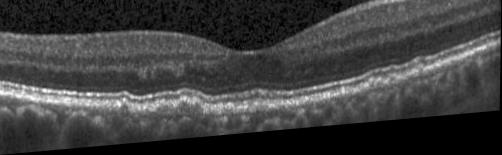retinal_drusen: (176, 104, 204, 120), (412, 70, 428, 86), (157, 105, 175, 117), (118, 106, 133, 119), (254, 105, 269, 118), (389, 83, 401, 93), (223, 110, 234, 118), (376, 87, 384, 95), (370, 86, 376, 94)
